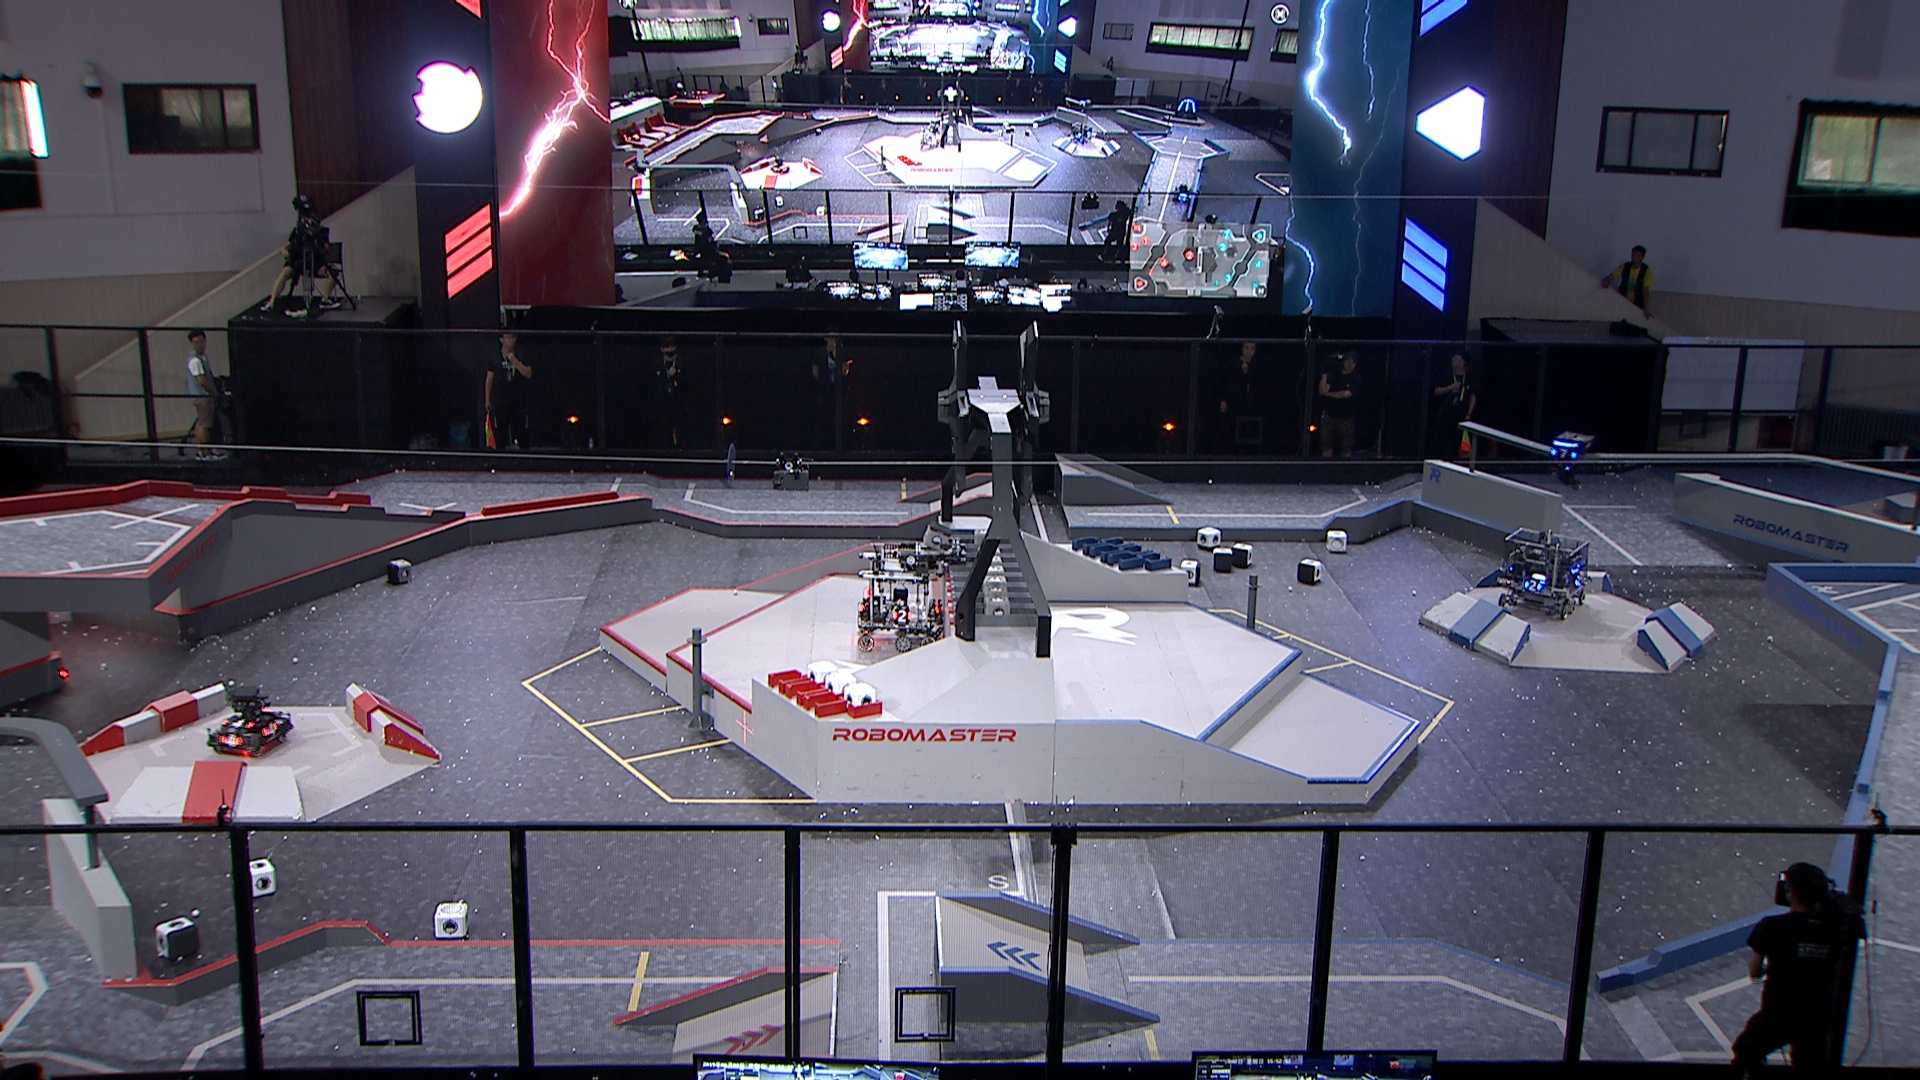armor: (216, 731, 244, 749), (891, 607, 915, 626), (258, 717, 284, 736), (223, 716, 255, 731), (1551, 447, 1580, 462), (1522, 578, 1544, 593), (1572, 572, 1586, 589)
car: (851, 534, 953, 657), (1493, 522, 1600, 622), (200, 684, 301, 760)
ignore: (1174, 96, 1201, 124), (916, 123, 944, 150), (1068, 120, 1093, 145), (1168, 181, 1192, 204), (769, 156, 793, 177), (628, 156, 647, 177)
watcher: (1544, 427, 1602, 491)
